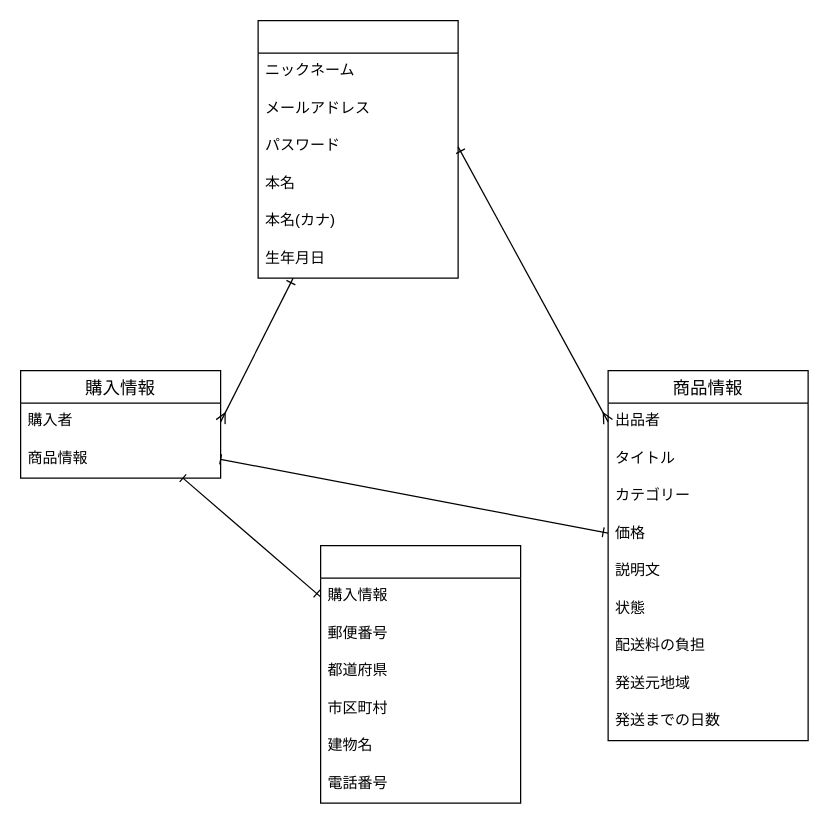
The diagram is 829 pixels wide and 824 high, and some of its shapes have lost their labels. The box of each missing label's shape, as (x1, y1, x2, y2) in pixels:
ユーザー情報: (257, 19, 458, 278)
発送先情報: (319, 544, 521, 803)
